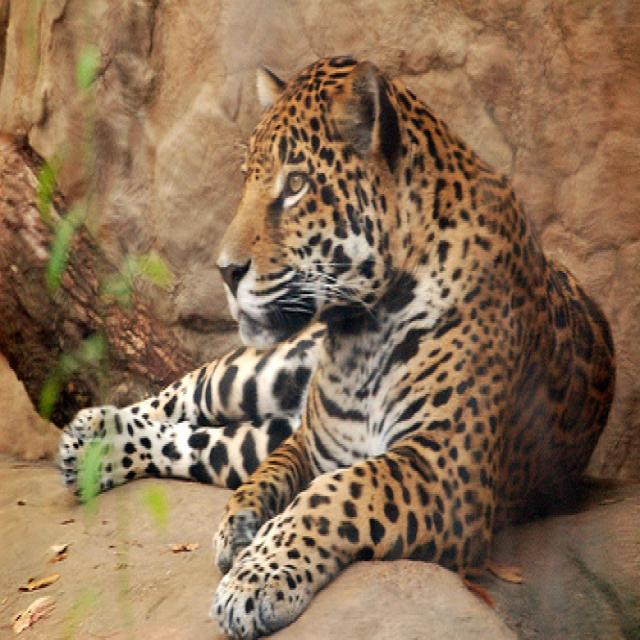Leopard: (58, 46, 618, 636)
